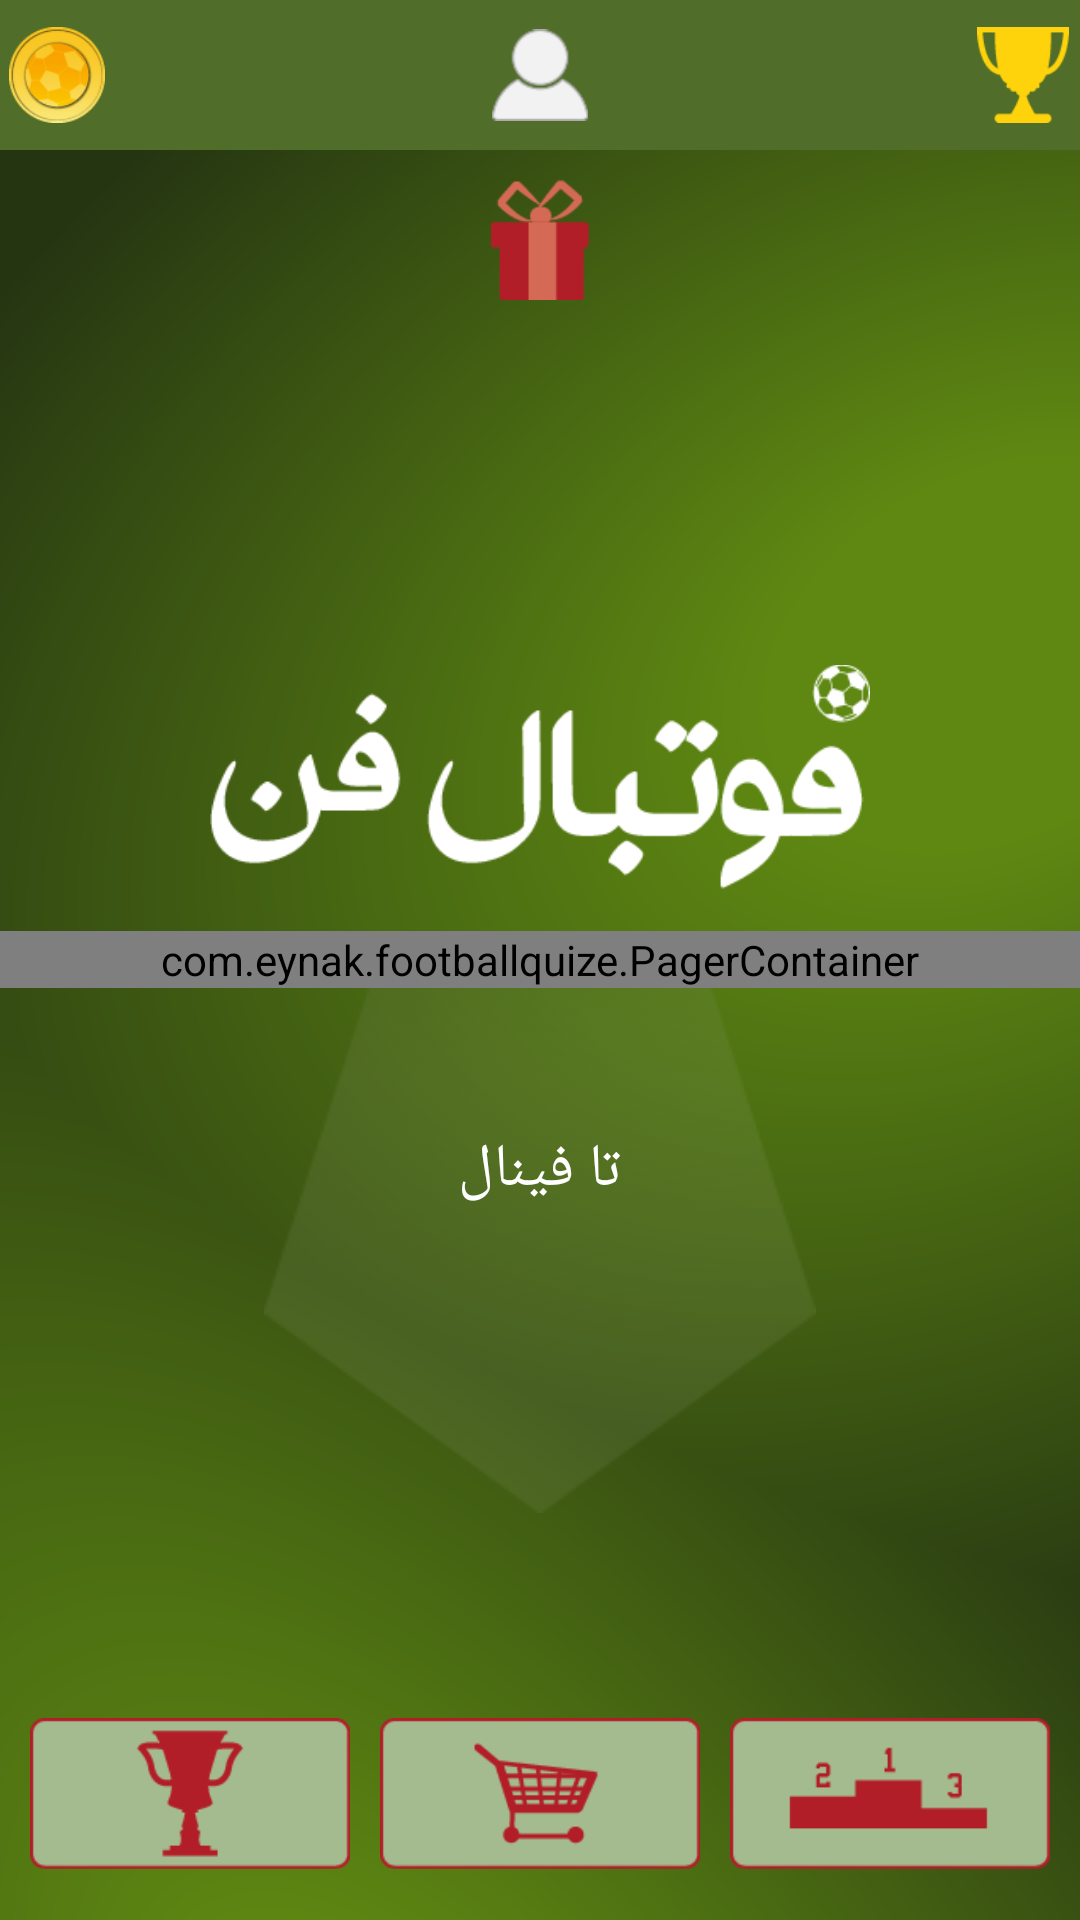

Locate icon controls on the screen. Image size 1080px×1920px, boxes as bbox=(x1, y1, x2, y2).
coin: bbox=(9, 27, 105, 123)
gift: bbox=(491, 180, 589, 300)
shop: bbox=(380, 1718, 700, 1869)
user: bbox=(492, 29, 588, 121)
